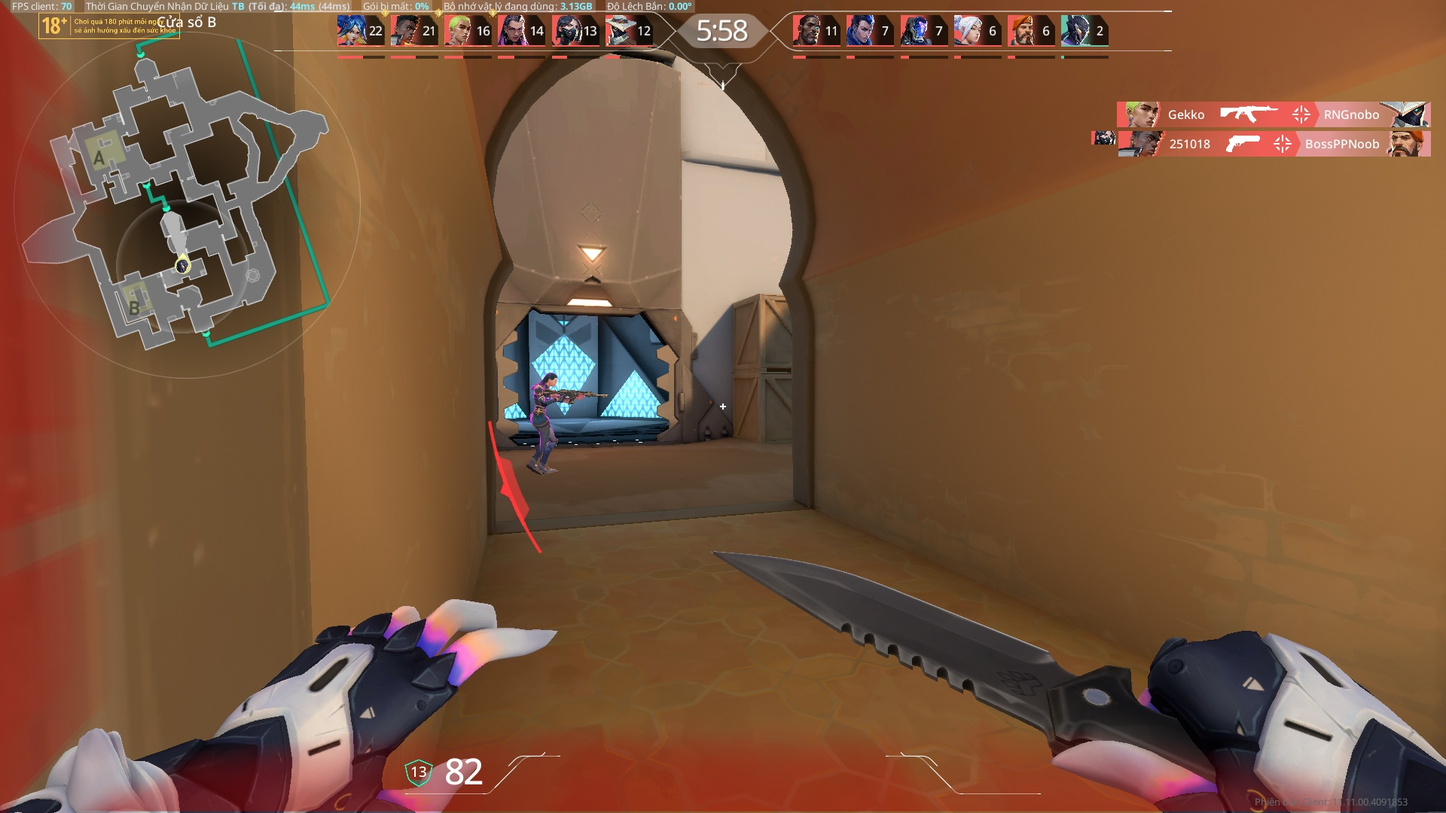body: (532, 383, 554, 416)
head: (541, 370, 556, 385)
